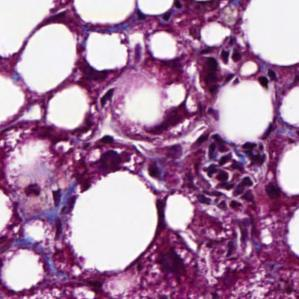inflammation: (198, 145, 267, 202), (190, 52, 239, 103)
